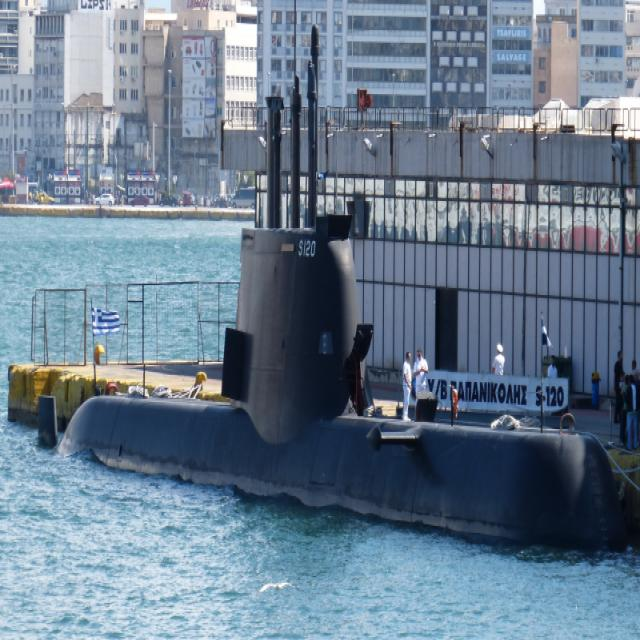submarine: (55, 18, 631, 551)
